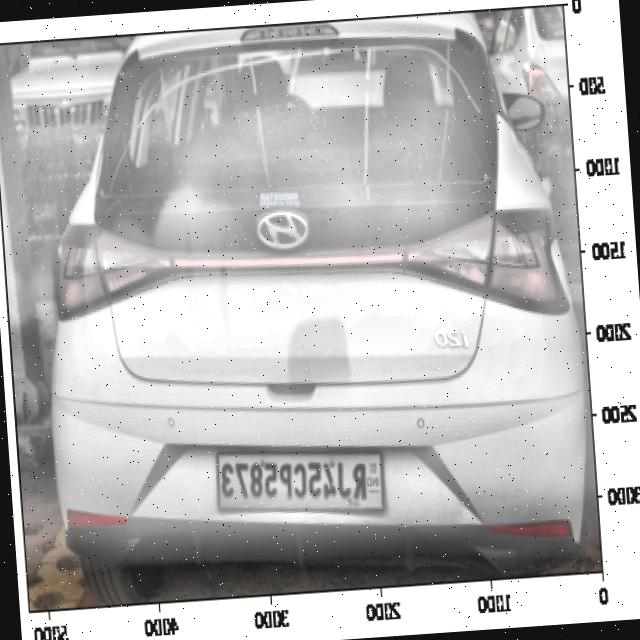license_plate: (216, 443, 374, 514)
